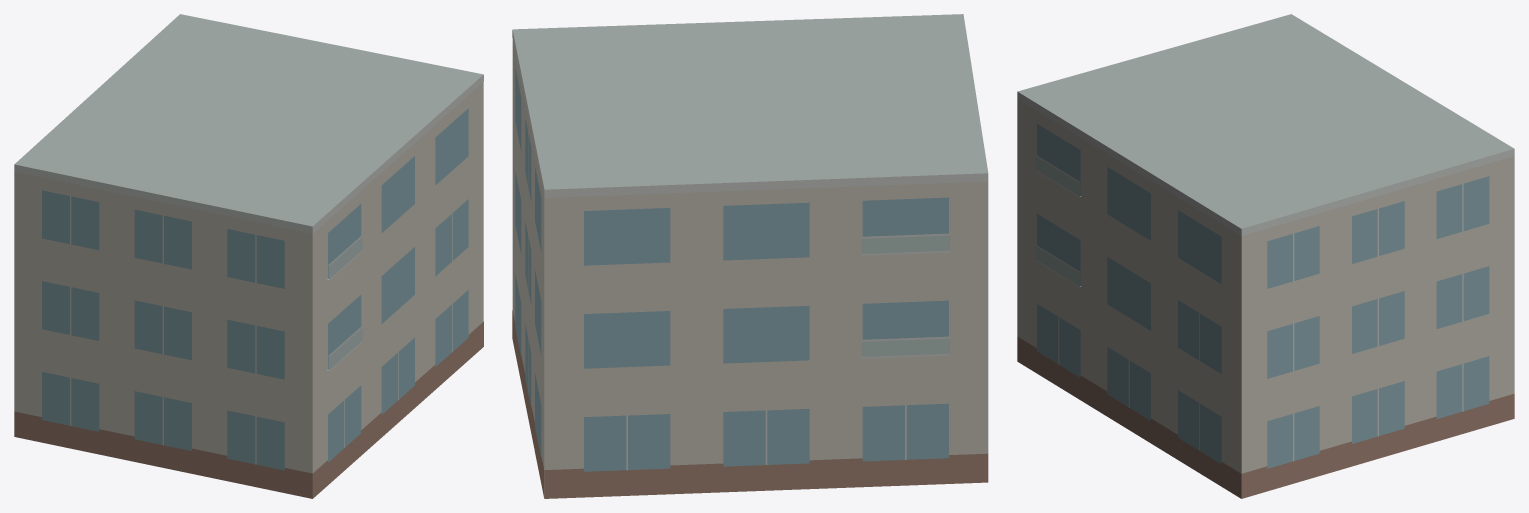
File: survey-upis-32616021.glb
3 views of the same model, side by side, from view 1: azimuth 30°, elevation 25°; view 2: azimuth 150°, elevation 25°; view 3: azimuth 270°, elevation 25° (orthographic). The views are drawn at different scales.
Parts seen in each view (by area): view 1: survey-upis-32616021.tmp; view 2: survey-upis-32616021.tmp; view 3: survey-upis-32616021.tmp.
Boxes of the visible parts, x1,y1,x2,y2 form: survey-upis-32616021.tmp: (14, 14, 483, 498); survey-upis-32616021.tmp: (512, 14, 988, 498); survey-upis-32616021.tmp: (1017, 14, 1514, 498).
Bounding box in the file's own units: 15.63 × 9.15 × 15.28.
